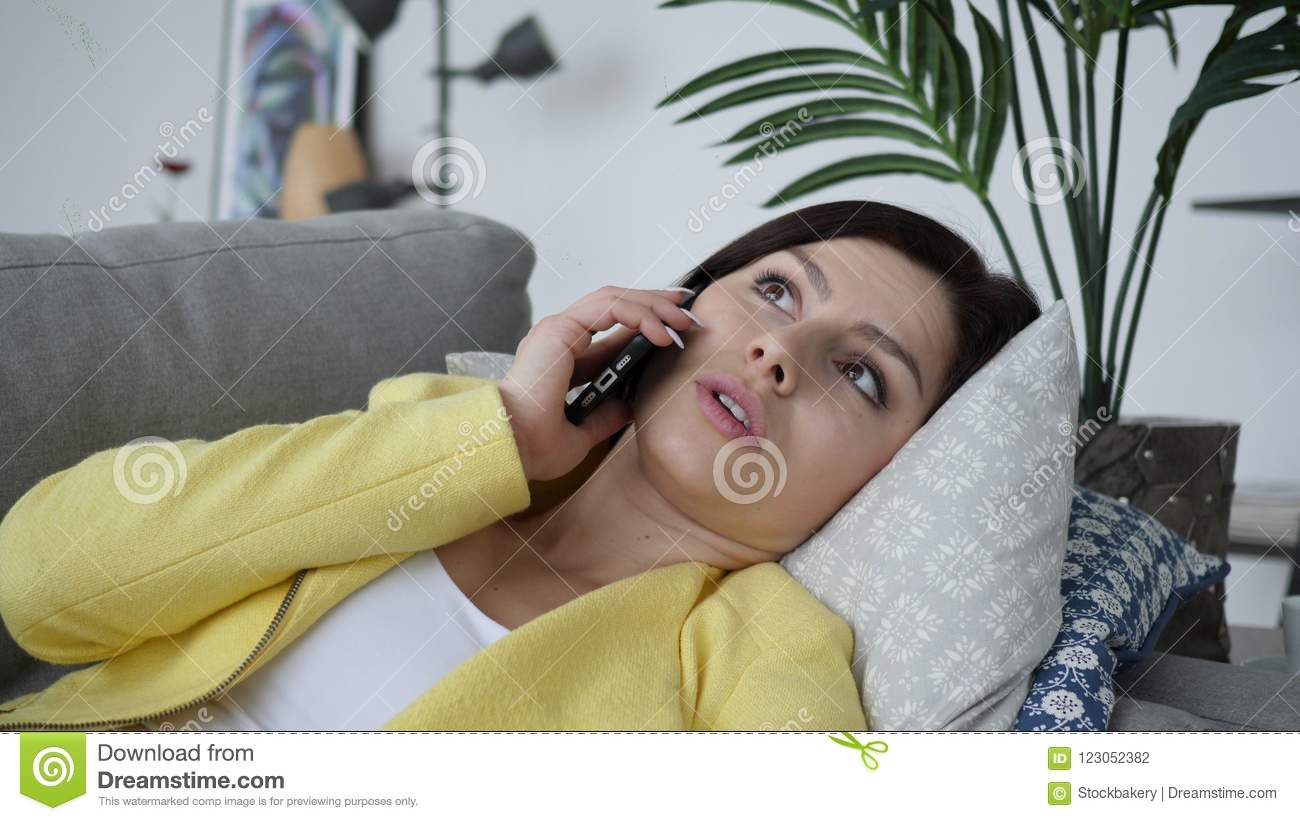phone: (565, 277, 701, 420)
talk: (504, 218, 934, 565)
